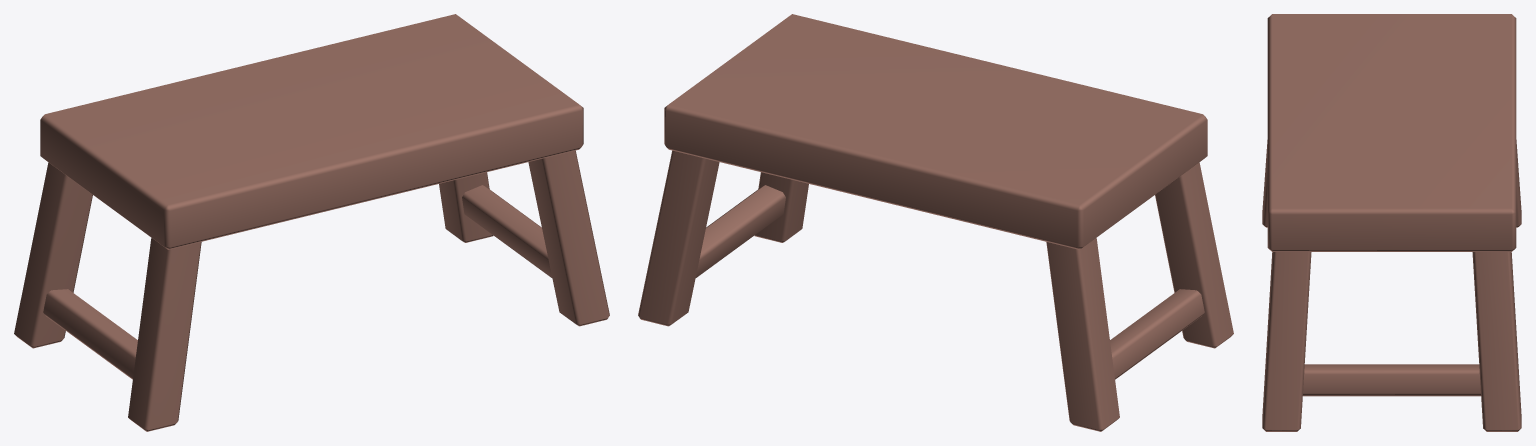
Rendered from Farm_17_Bench_1.glb.
3 views of the same model, side by side, from view 1: azimuth 30°, elevation 25°; view 2: azimuth 150°, elevation 25°; view 3: azimuth 270°, elevation 25° (orthographic). The views are drawn at different scales.
Parts seen in each view (by area): view 1: Farm_17_Bench_1; view 2: Farm_17_Bench_1; view 3: Farm_17_Bench_1.
Part boxes in pixels (x1=…): Farm_17_Bench_1: x1=14, y1=14, x2=609, y2=431; Farm_17_Bench_1: x1=638, y1=14, x2=1233, y2=431; Farm_17_Bench_1: x1=1262, y1=14, x2=1521, y2=431.
Bounding box in the file's own units: 1.6 × 0.7195 × 0.797.
1 material, 1 textured.
